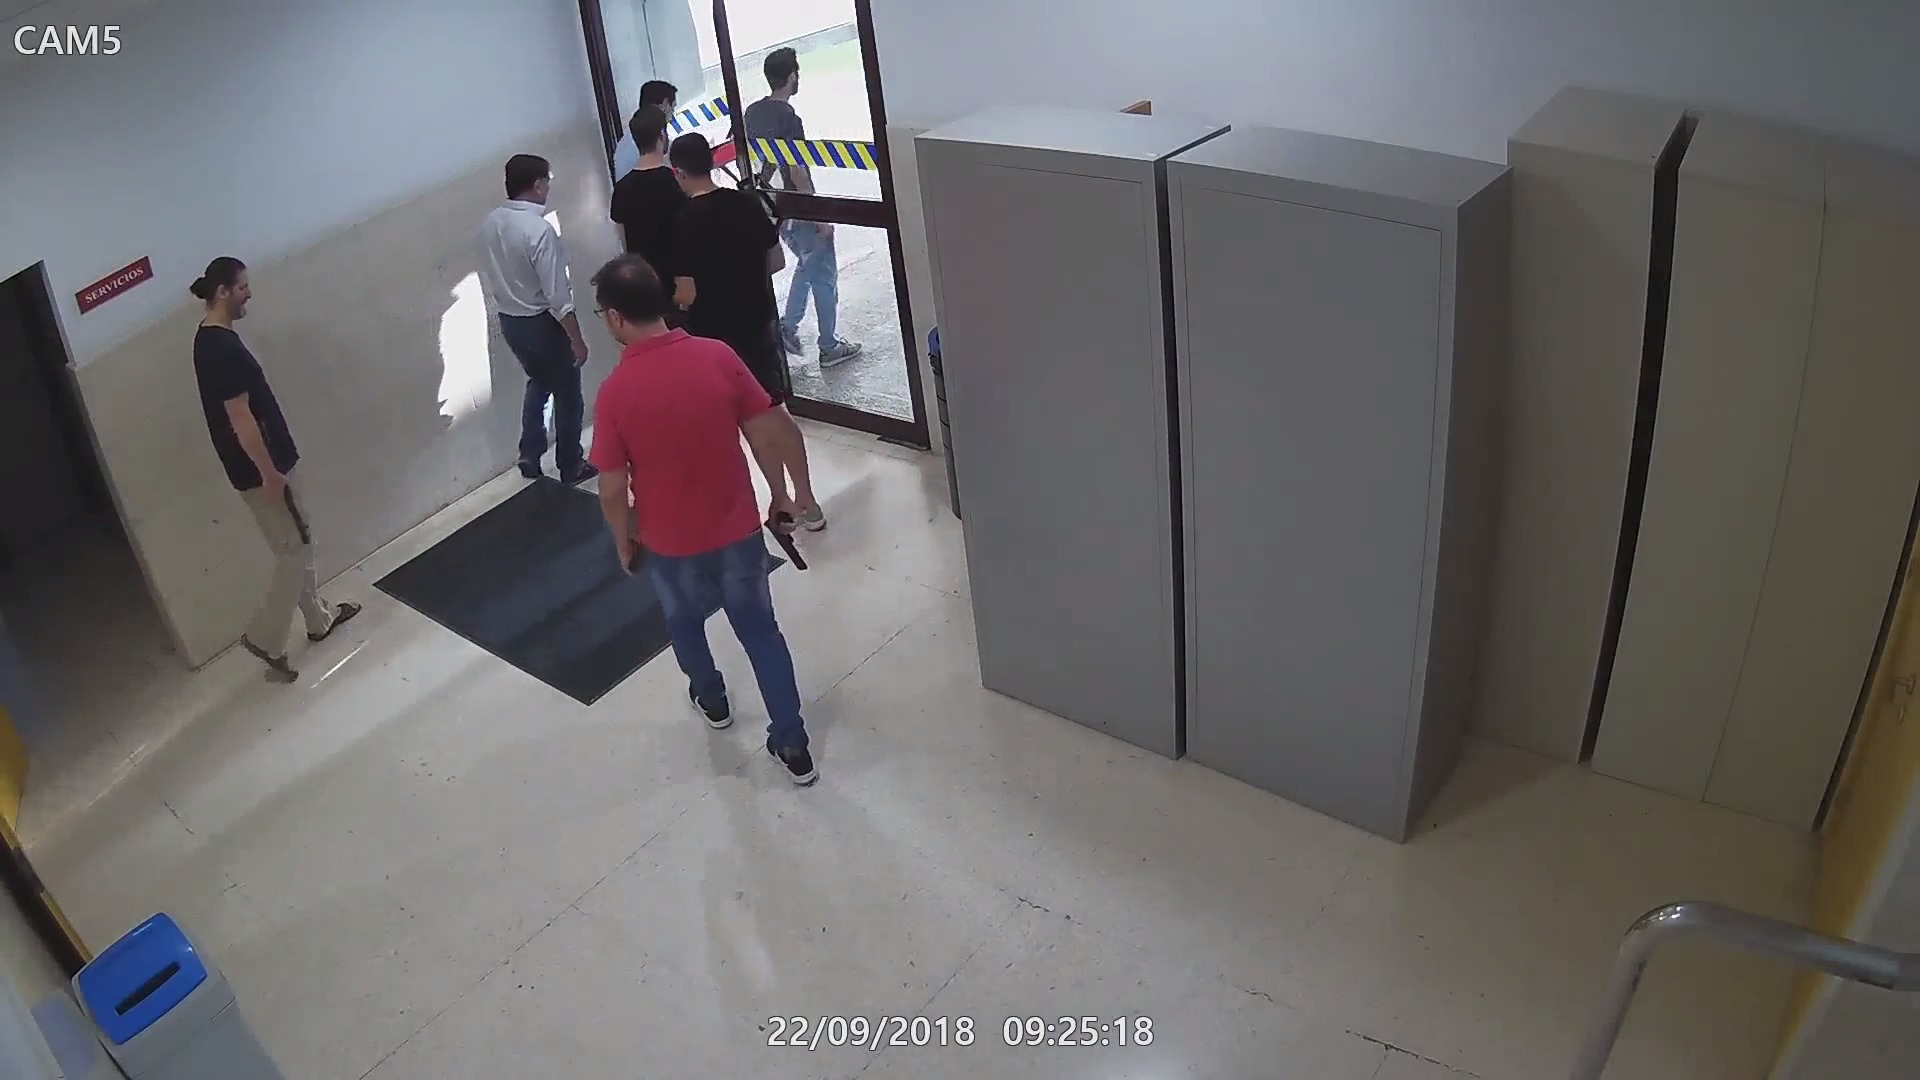Handgun: (764, 495, 815, 578)
Short_rifle: (260, 469, 313, 549)
